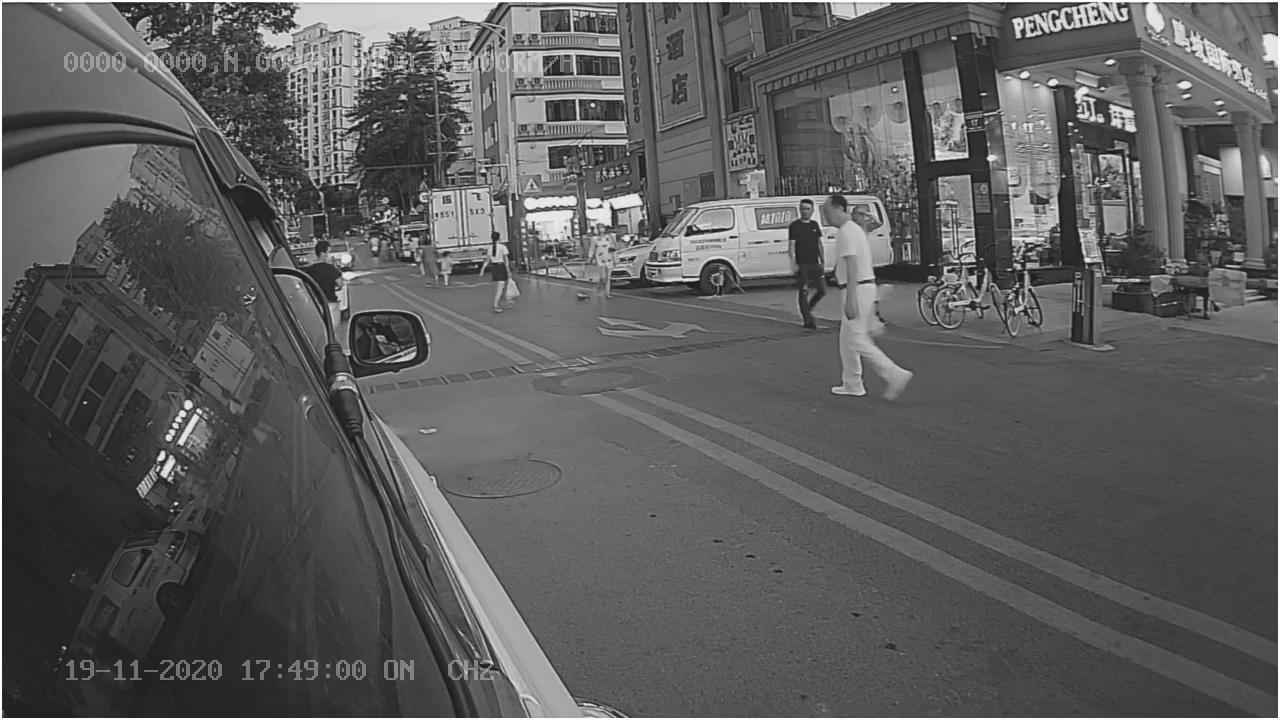person: (814, 195, 923, 404)
